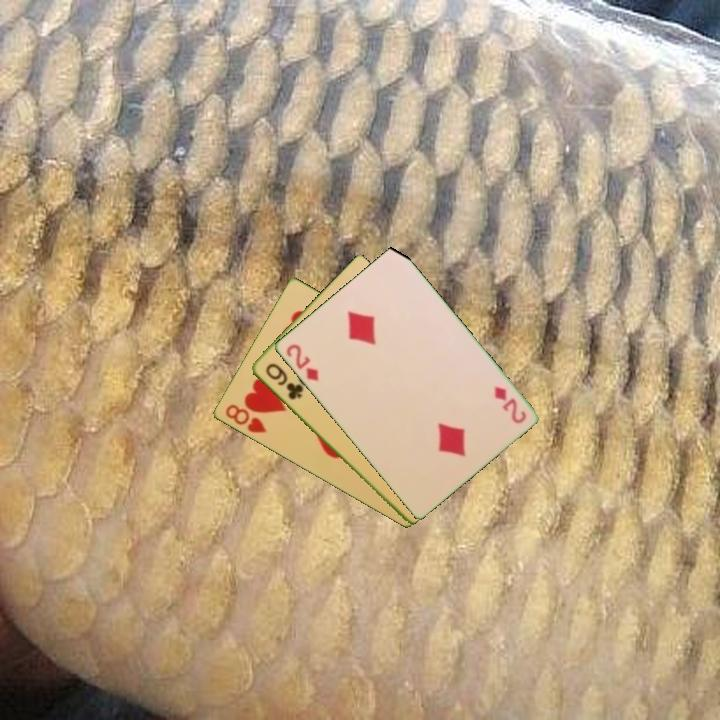2d: (282, 340, 321, 384), (490, 382, 529, 426)
8h: (221, 401, 269, 436)
9c: (262, 359, 305, 403)
